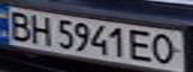1: (106, 25, 130, 58)
4: (90, 22, 109, 56)
5: (51, 17, 75, 51)
9: (69, 20, 93, 53)
B: (3, 8, 36, 42)
E: (127, 28, 157, 63)
H: (24, 12, 54, 46)
O: (148, 32, 184, 66)
